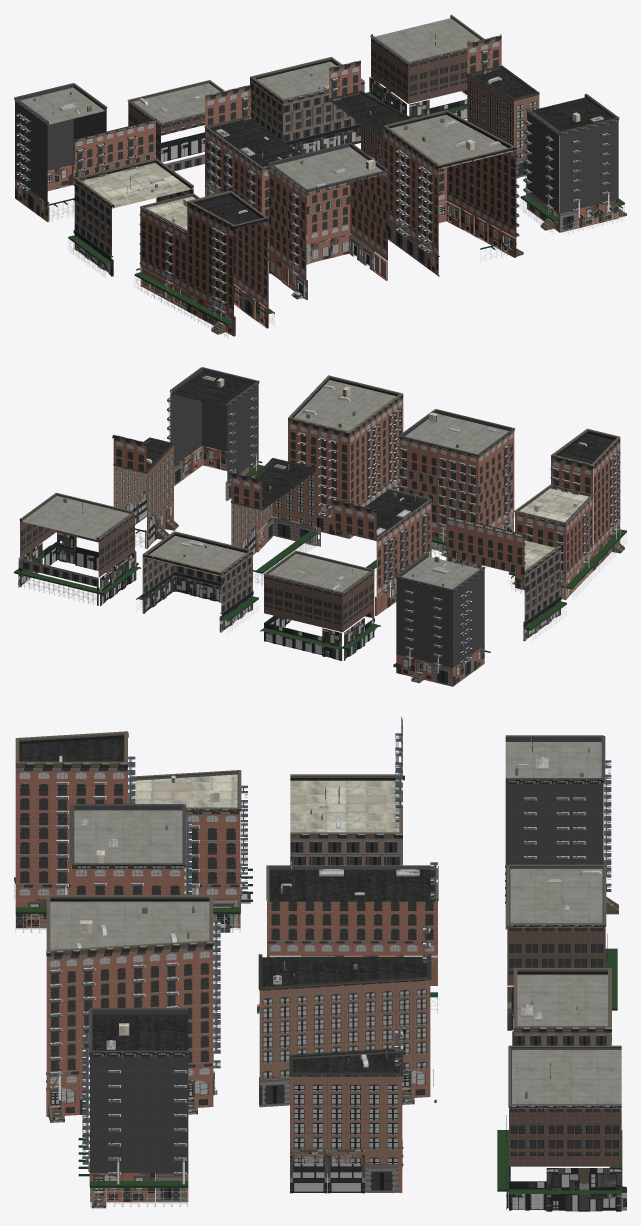
File: city.glb
3 views of the same model, one above another, from view 1: azimuth 30°, elevation 25°; view 2: azimuth 150°, elevation 25°; view 3: azimuth 270°, elevation 25° (orthographic). The views are drawn at different scales.
Parts seen in each view (by area): view 1: bld2, bld0, bld1, bld3, bld4, bld8, bld11, bld10, bld5, bld7, bld9, bld6; view 2: bld2, bld1, bld0, bld8, bld11, bld9, bld3, bld10, bld6, bld4, bld5, bld7; view 3: bld2, bld0, bld3, bld6, bld11, bld7, bld5, bld8, bld9, bld1, bld4, bld10.
Boxes of the visible parts, x1,y1,x2,y2 form: bld2: (383,110,523,276); bld0: (134,190,274,338); bld1: (267,142,388,299); bld3: (520,93,626,235); bld4: (68,118,193,277); bld8: (14,83,107,222); bld11: (366,14,484,118); bld10: (250,57,364,154); bld5: (204,84,300,238); bld7: (467,34,539,177); bld9: (127,80,224,171); bld6: (328,60,411,165); bld2: (288,375,403,538); bld1: (398,409,514,556); bld0: (508,428,626,600); bld8: (393,553,490,686); bld11: (14,492,140,606); bld9: (260,550,380,660); bld3: (167,367,263,500); bld10: (136,531,258,632); bld6: (230,458,320,585); bld4: (445,515,566,641); bld5: (332,488,431,615); bld7: (112,434,178,548); bld2: (46,895,220,1122); bld0: (14,731,252,932); bld3: (78,1008,188,1208); bld6: (258,926,436,1107); bld11: (497,1045,626,1211); bld7: (289,1004,406,1193); bld5: (257,854,438,1013); bld8: (505,735,618,929); bld9: (506,864,617,1030); bld1: (70,804,191,894); bld4: (290,716,404,865); bld10: (512,968,611,1045).
Bounding box in the file's own units: 150 × 35.67 × 114.
Materials: 16 (12 with a texture image).
